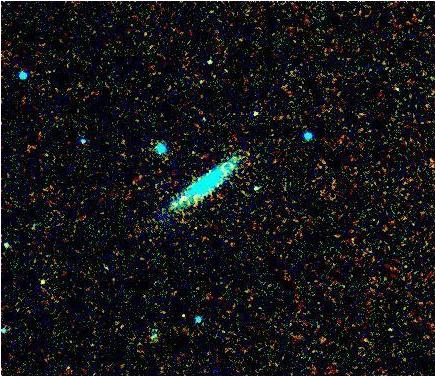star: (25, 263, 55, 293)
